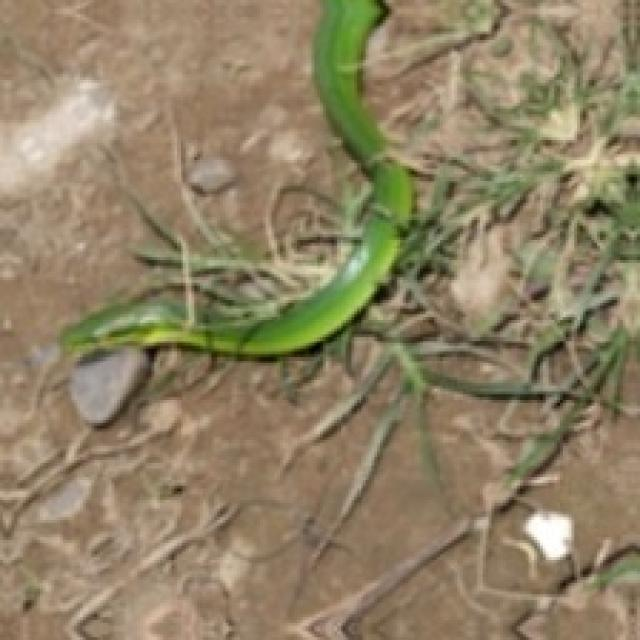red-tailed green ratsnake: (63, 0, 411, 354)
